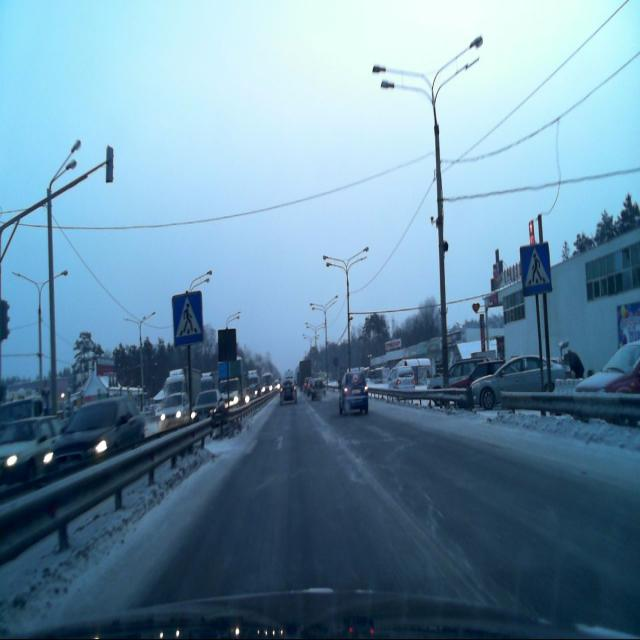road sign: (519, 242, 550, 296), (172, 292, 202, 345)
